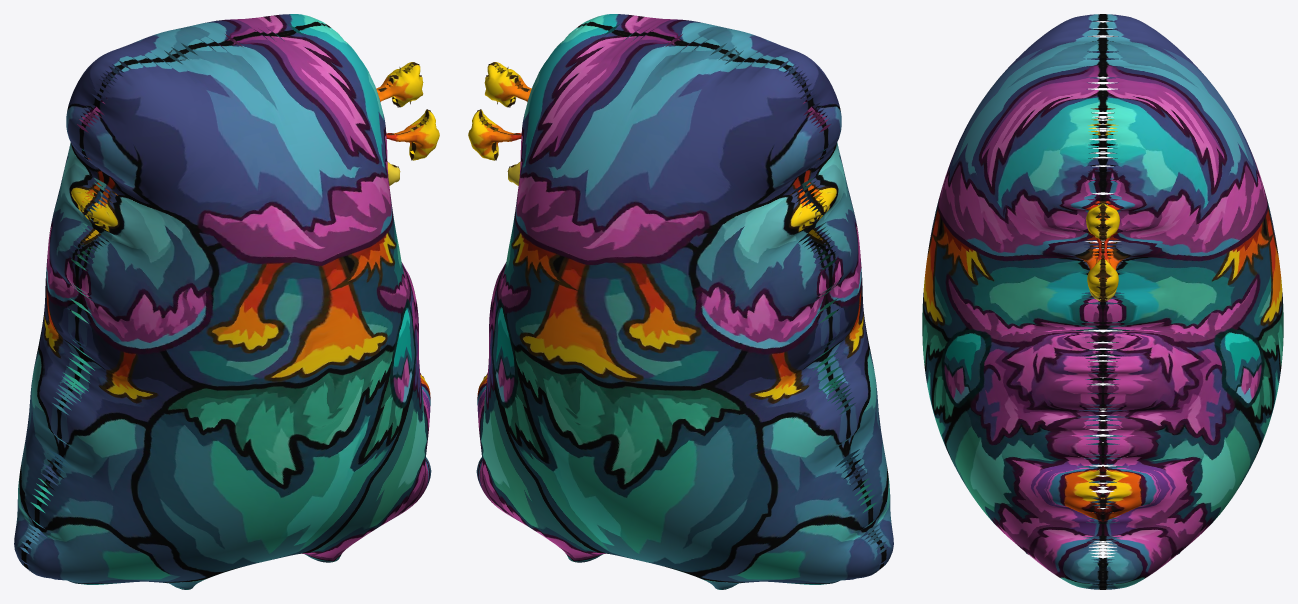
The model's file is magenta_cliff.glb.
3 views of the same model, side by side, from view 1: azimuth 30°, elevation 25°; view 2: azimuth 150°, elevation 25°; view 3: azimuth 270°, elevation 25° (orthographic). The views are drawn at different scales.
Visible parts, largest first — view 1: magenta_cliff; view 2: magenta_cliff; view 3: magenta_cliff.
Part boxes in pixels (<box>): magenta_cliff: <box>14,14,439,589</box>; magenta_cliff: <box>468,14,893,589</box>; magenta_cliff: <box>922,14,1283,589</box>.
Bounding box in the file's own units: 0.9869 × 1.16 × 0.819.
1 material, 1 textured.
